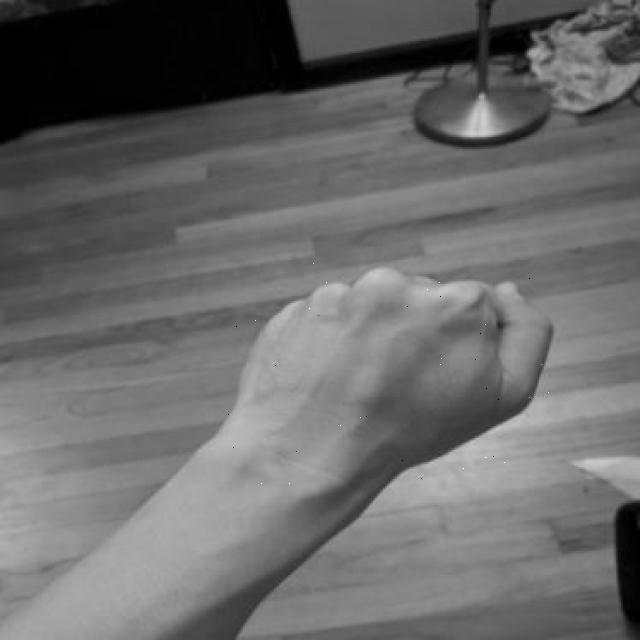A: (218, 258, 560, 490)
